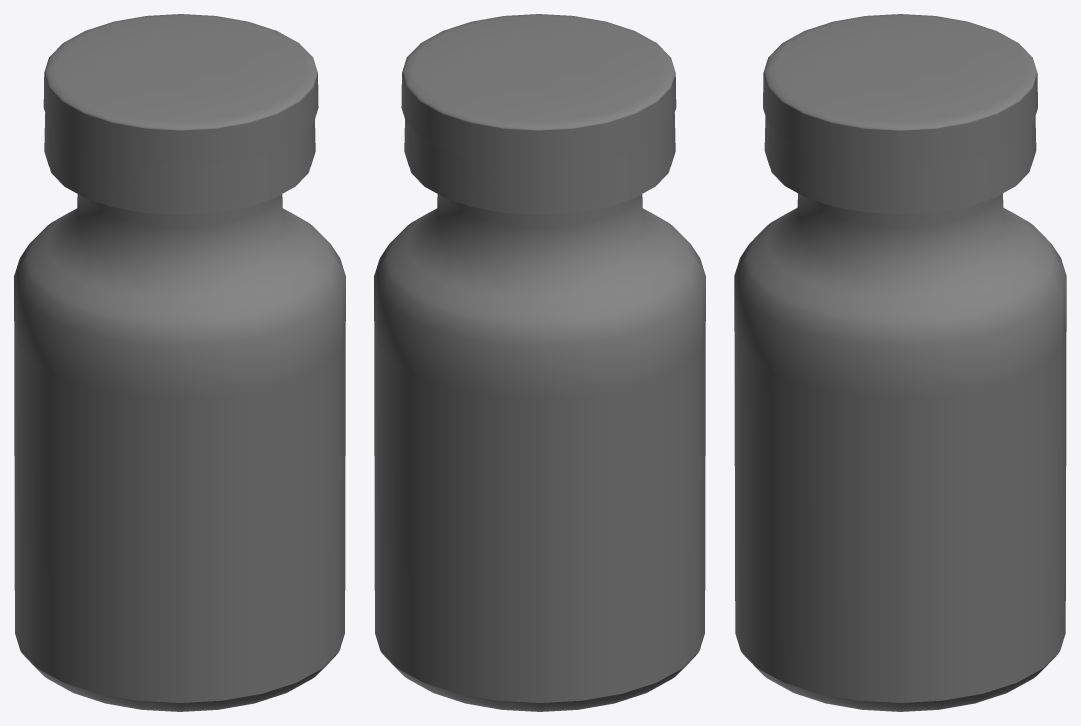
Rendered from MedicineBottle.fbx.
The picture shows the model from 3 angles, left to right: view 1: azimuth 30°, elevation 25°; view 2: azimuth 150°, elevation 25°; view 3: azimuth 270°, elevation 25°; orthographic projection.
Parts seen in each view (by area): view 1: Bottle_1, plastic_cap, Cap_1; view 2: Bottle_1, plastic_cap, Cap_1; view 3: Bottle_1, plastic_cap, Cap_1.
Boxes of the visible parts, x1,y1,x2,y2 form: Bottle_1: (14,167,345,711); plastic_cap: (43,14,318,165); Cap_1: (44,113,315,208); Bottle_1: (374,167,705,711); plastic_cap: (401,14,676,165); Cap_1: (404,113,675,208); Bottle_1: (734,167,1066,711); plastic_cap: (763,14,1037,165); Cap_1: (764,116,1036,208).
Bounding box in the file's own units: 3737 × 7248 × 3737.
